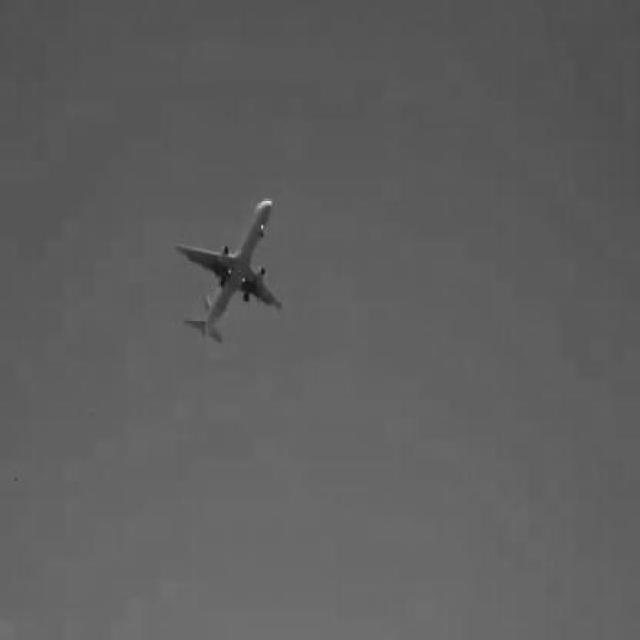aeroplane: (176, 192, 287, 343)
